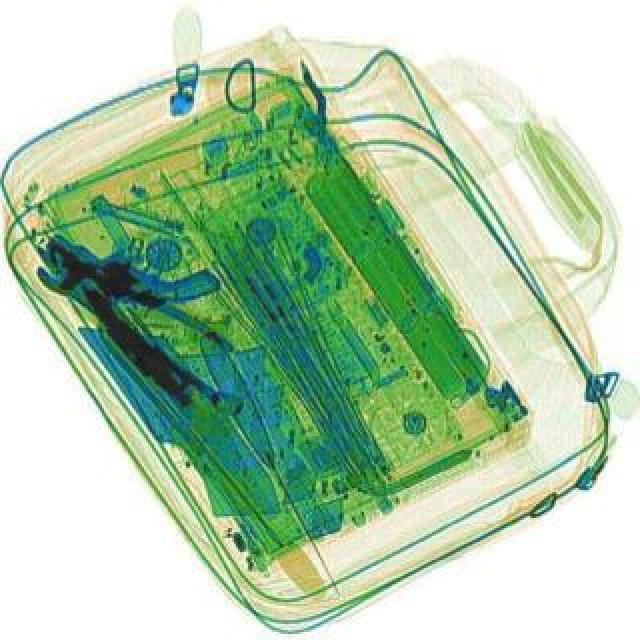gun: (42, 186, 226, 336)
knife: (192, 326, 352, 606)
scissors: (22, 240, 258, 430)
wrench: (20, 224, 242, 406)
